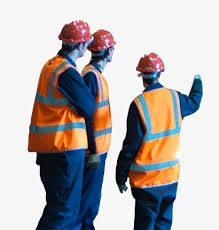helmet: (55, 18, 94, 46), (134, 49, 168, 77), (87, 27, 119, 54)
person with full safety: (114, 50, 194, 228), (35, 19, 94, 229), (78, 27, 116, 230)
safety vest: (128, 90, 182, 186), (33, 61, 82, 151), (80, 67, 113, 150)
